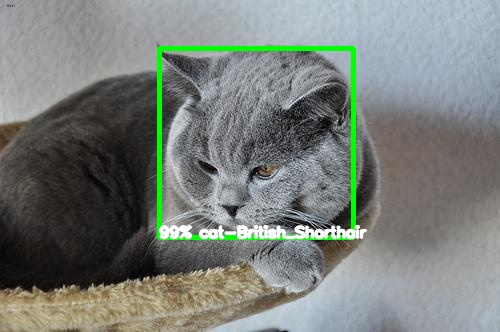cat-British_Shorthair: (156, 45, 348, 231)
